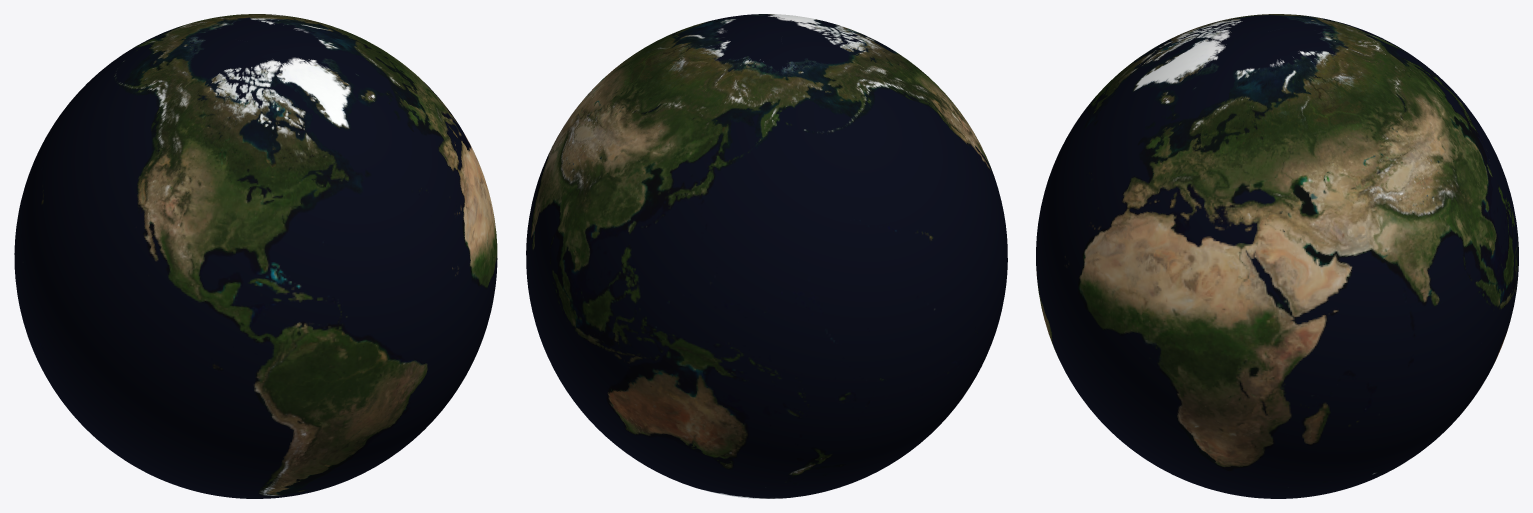
The model's file is Globe.dae.
The picture shows the model from 3 angles, left to right: view 1: azimuth 30°, elevation 25°; view 2: azimuth 150°, elevation 25°; view 3: azimuth 270°, elevation 25°; orthographic projection.
Visible parts, largest first — view 1: Globe; view 2: Globe; view 3: Globe.
Part boxes in pixels (bbox=[...]): Globe: bbox=[14, 14, 497, 498]; Globe: bbox=[526, 14, 1007, 498]; Globe: bbox=[1036, 14, 1518, 498].
Bounding box in the file's own units: 1.98 × 1.98 × 1.99.
